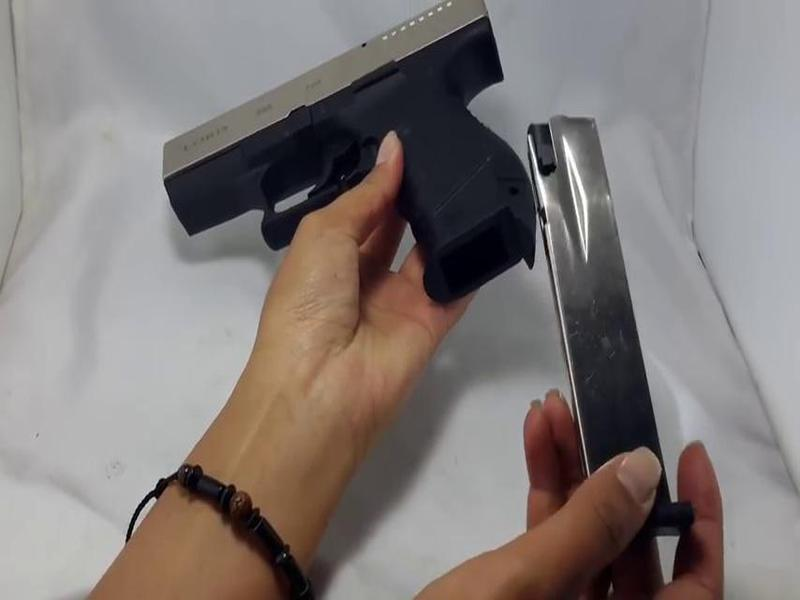Pistola: (140, 1, 553, 279)
